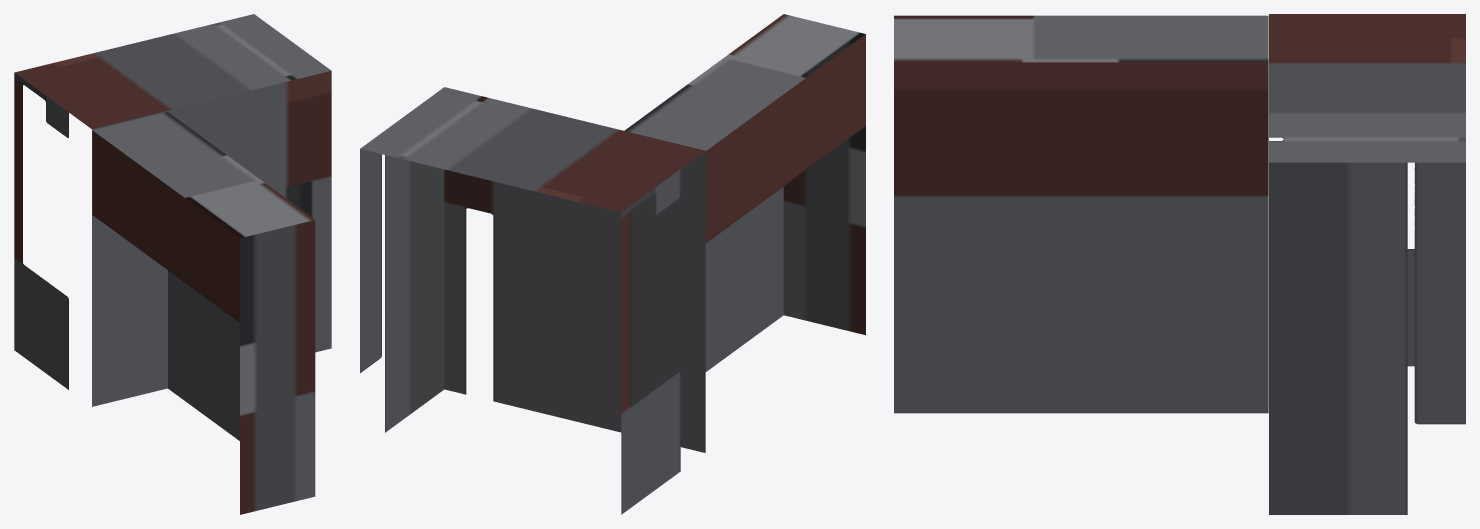
The model's file is section-0.obj.
3 views of the same model, side by side, from view 1: azimuth 30°, elevation 25°; view 2: azimuth 150°, elevation 25°; view 3: azimuth 270°, elevation 25° (orthographic). The views are drawn at different scales.
Bounding box in the file's own units: 0.74 × 0.8187 × 1.2.
